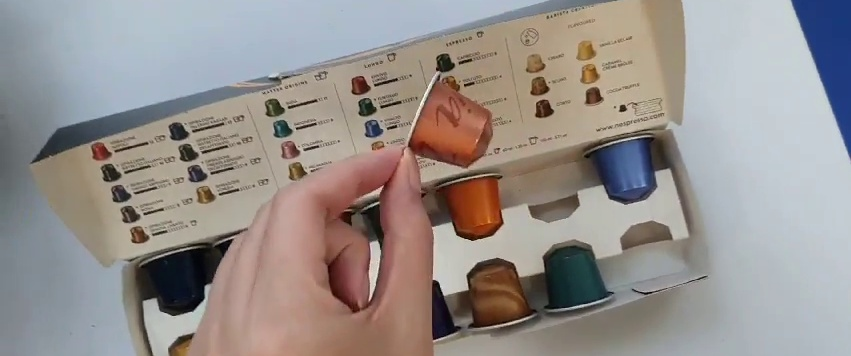capsule_6: (403, 67, 499, 170)
